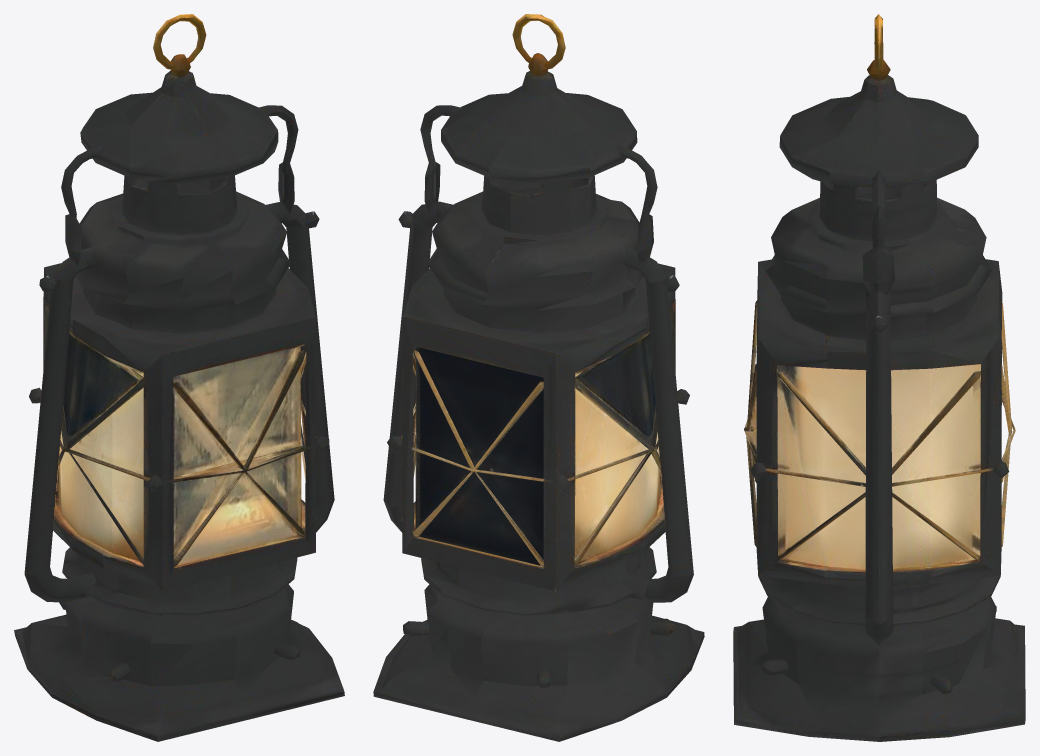
File: lantern.glb
3 renders of one model, left to right at view 1: azimuth 30°, elevation 25°; view 2: azimuth 150°, elevation 25°; view 3: azimuth 270°, elevation 25°, orthographic.
Bounding box in the file's own units: 0.1893 × 0.38 × 0.1525.
1 material, 1 textured.
